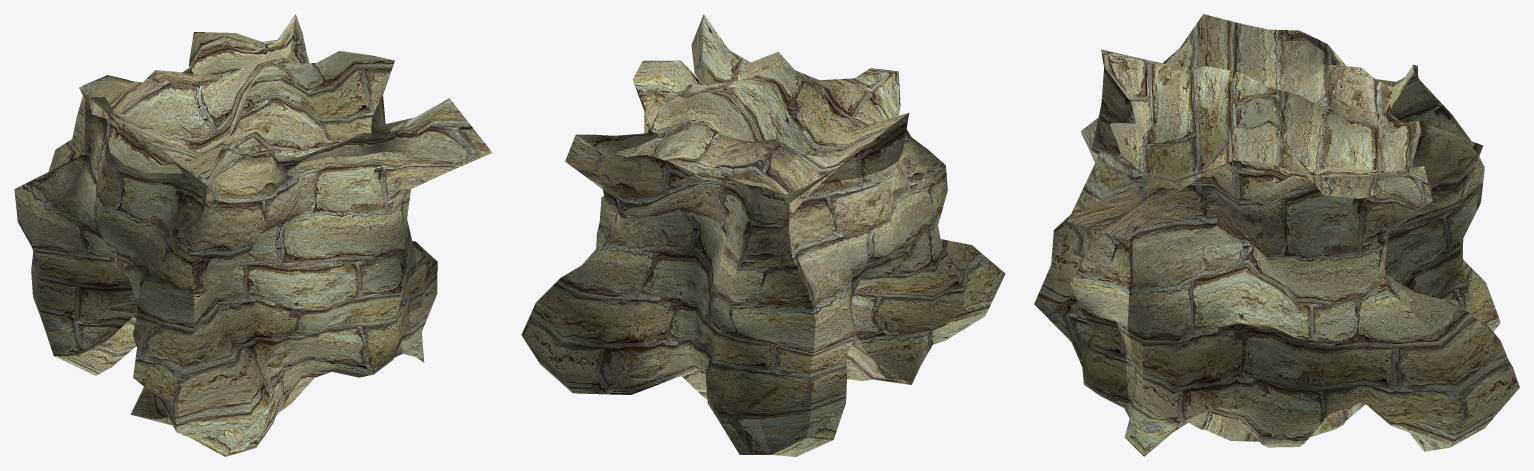
3 renders of one model, left to right at view 1: azimuth 30°, elevation 25°; view 2: azimuth 150°, elevation 25°; view 3: azimuth 270°, elevation 25°, orthographic. The views are drawn at different scales.
Parts seen in each view (by area): view 1: Cube; view 2: Cube; view 3: Cube.
Part boxes in pixels (x1,y1,x2,y2): Cube: (14,14,492,456); Cube: (521,14,1005,456); Cube: (1034,14,1519,456).
Bounding box in the file's own units: 38.3 × 37.37 × 43.97.
1 material, 1 textured.
